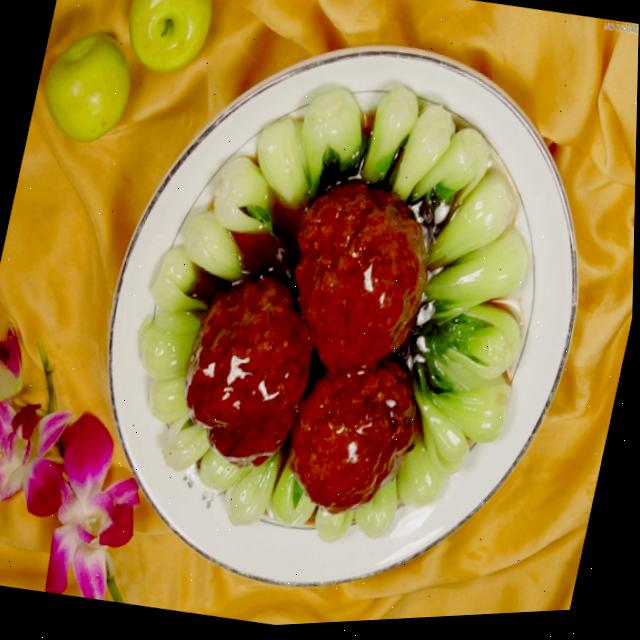猪肉菜式: (122, 58, 596, 609)
